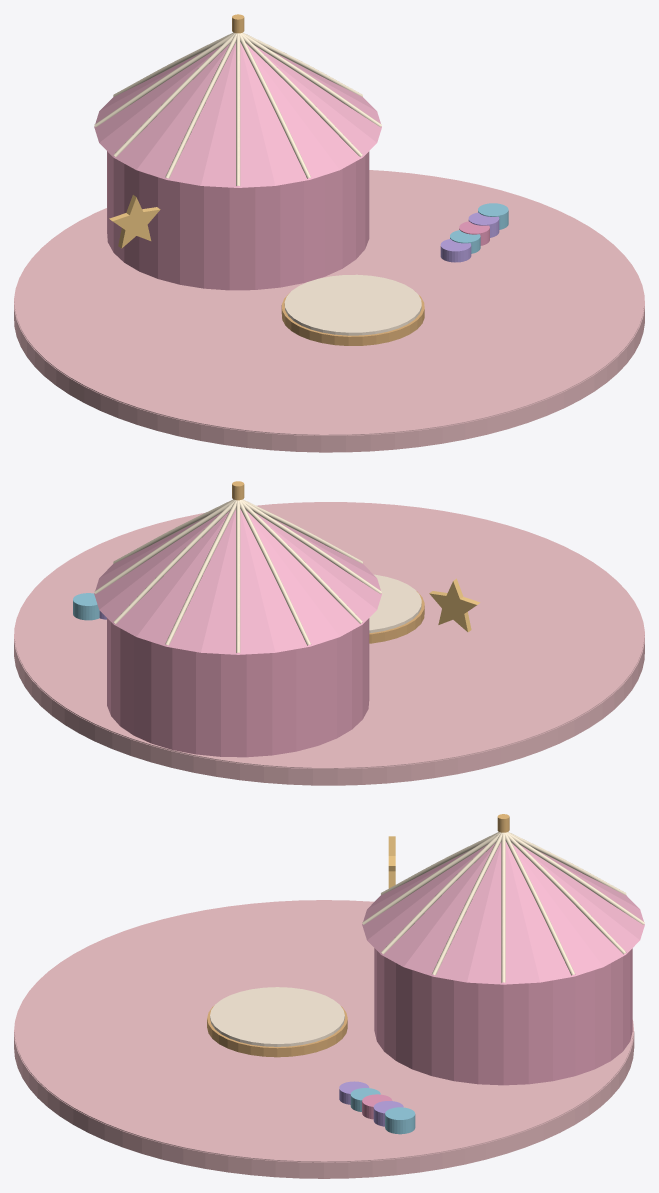
Rendered from circo.glb.
3 renders of one model, top to bottom at view 1: azimuth 30°, elevation 25°; view 2: azimuth 150°, elevation 25°; view 3: azimuth 270°, elevation 25°, orthographic.
Parts seen in each view (by area): view 1: Diorama piping.007, Circus roof, Circus tent, Diorama base.007, Look pedestal.007, Look pedestal trim.007, Marquee, Tent piping.007, Tent piping.009, Tent piping.010, Tent piping.006, Tent piping.011 (+3 smaller); view 2: Diorama piping.007, Circus tent, Circus roof, Diorama base.007, Look pedestal.007, Marquee, Tent piping.005, Tent piping.006, Tent piping.003, Tent piping.002, Tent piping.001, Tent piping.007 (+5 smaller); view 3: Diorama piping.007, Circus tent, Circus roof, Diorama base.007, Look pedestal.007, Look pedestal trim.007, Tent piping.011, Tent piping.002, Tent piping.001, Tent piping.010, Circus pedestal.004, Tent piping.003 (+4 smaller).
Boxes of the visible parts, bbox=[...] form: Diorama piping.007: bbox=[14, 170, 644, 435]; Circus roof: bbox=[94, 42, 381, 187]; Circus tent: bbox=[107, 151, 369, 290]; Diorama base.007: bbox=[14, 257, 644, 452]; Look pedestal.007: bbox=[284, 274, 421, 335]; Look pedestal trim.007: bbox=[281, 293, 424, 345]; Marquee: bbox=[109, 195, 160, 248]; Tent piping.007: bbox=[165, 33, 237, 178]; Tent piping.009: bbox=[239, 33, 310, 178]; Tent piping.010: bbox=[241, 33, 362, 156]; Tent piping.006: bbox=[113, 33, 235, 156]; Tent piping.011: bbox=[242, 32, 381, 127]; Diorama piping.007: bbox=[14, 502, 644, 768]; Circus tent: bbox=[107, 618, 369, 757]; Circus roof: bbox=[94, 509, 381, 654]; Diorama base.007: bbox=[14, 588, 644, 785]; Look pedestal.007: bbox=[369, 574, 421, 633]; Marquee: bbox=[429, 578, 480, 632]; Tent piping.005: bbox=[239, 500, 311, 645]; Tent piping.006: bbox=[240, 500, 362, 623]; Tent piping.003: bbox=[165, 500, 237, 645]; Tent piping.002: bbox=[113, 500, 235, 623]; Tent piping.001: bbox=[94, 499, 234, 593]; Tent piping.007: bbox=[242, 499, 381, 593]; Diorama piping.007: bbox=[14, 900, 633, 1162]; Circus tent: bbox=[374, 948, 632, 1085]; Circus roof: bbox=[362, 841, 644, 984]; Diorama base.007: bbox=[14, 988, 634, 1178]; Look pedestal.007: bbox=[210, 987, 344, 1046]; Look pedestal trim.007: bbox=[207, 1005, 347, 1057]; Tent piping.011: bbox=[431, 832, 502, 975]; Tent piping.002: bbox=[506, 832, 626, 954]; Tent piping.001: bbox=[504, 832, 575, 975]; Tent piping.010: bbox=[381, 832, 500, 954]; Circus pedestal.004: bbox=[385, 1107, 415, 1134]; Tent piping.003: bbox=[507, 832, 644, 924].
Size of what is drawn, in the model's own units: 8.64 by 3.56 by 8.79.
